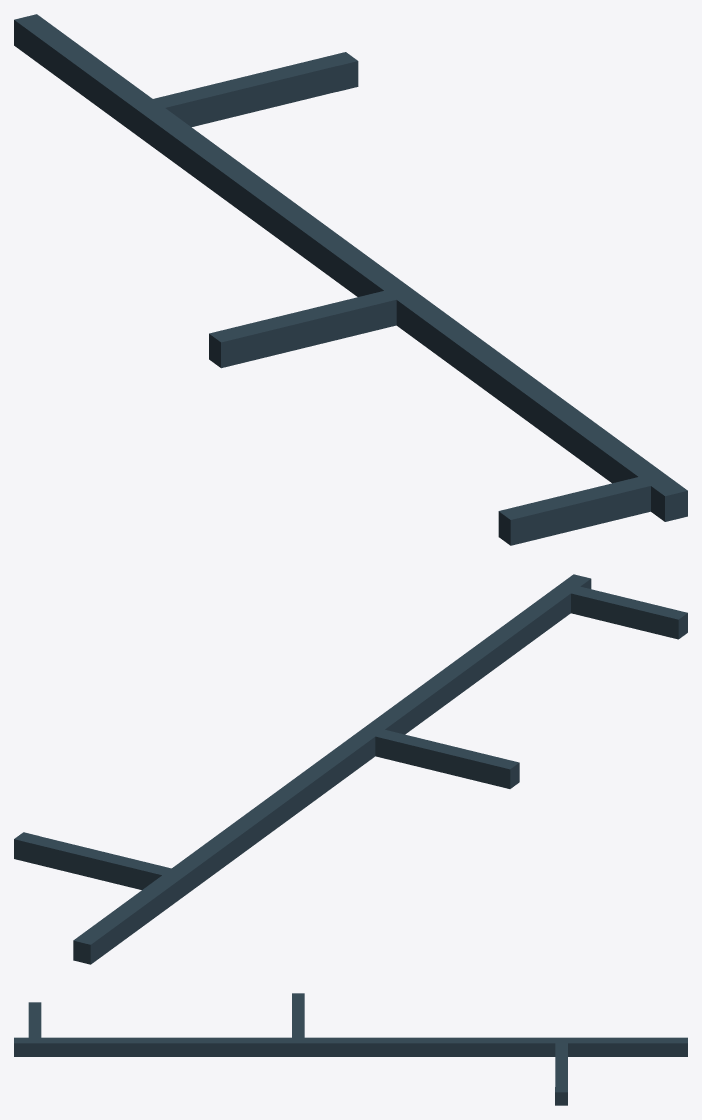
The model's file is v02-transit-world-01-03-03.glb.
The picture shows the model from 3 angles, top to bottom: view 1: azimuth 30°, elevation 25°; view 2: azimuth 150°, elevation 25°; view 3: azimuth 270°, elevation 25°; orthographic projection. The views are drawn at different scales.
Visible parts, largest first — view 1: v02-transit-world-01-03-03; view 2: v02-transit-world-01-03-03; view 3: v02-transit-world-01-03-03.
Boxes of the visible parts, x1=… form: v02-transit-world-01-03-03: x1=14, y1=14, x2=687, y2=545; v02-transit-world-01-03-03: x1=14, y1=574, x2=687, y2=964; v02-transit-world-01-03-03: x1=14, y1=993, x2=687, y2=1105.
Size of the model in its own units: 22.2 by 1.4 by 63.99.
